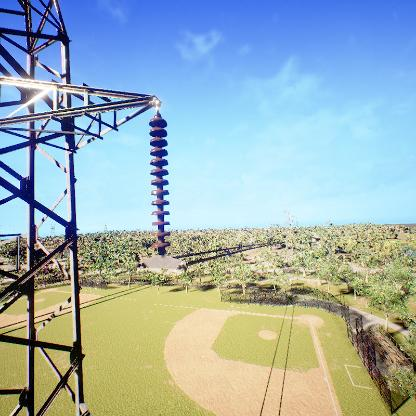insulator: (145, 116, 172, 255)
